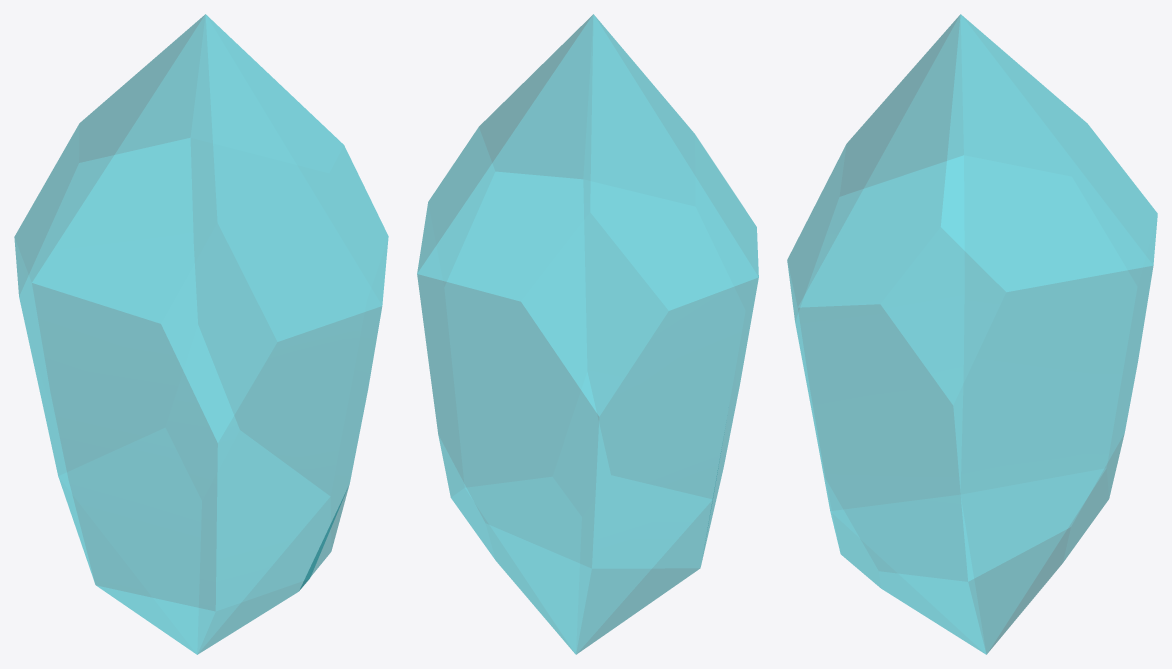
The model's file is Crystal3.fbx.
The picture shows the model from 3 angles, left to right: view 1: azimuth 30°, elevation 25°; view 2: azimuth 150°, elevation 25°; view 3: azimuth 270°, elevation 25°; orthographic projection. The views are drawn at different scales.
Visible parts, largest first — view 1: Crystal3; view 2: Crystal3; view 3: Crystal3.
Boxes of the visible parts, box(x1,y1,x2,y2) form: Crystal3: box(14, 14, 388, 654); Crystal3: box(417, 14, 758, 654); Crystal3: box(787, 14, 1157, 654).
Bounding box in the file's own units: 0.602 × 1.14 × 0.5985.
